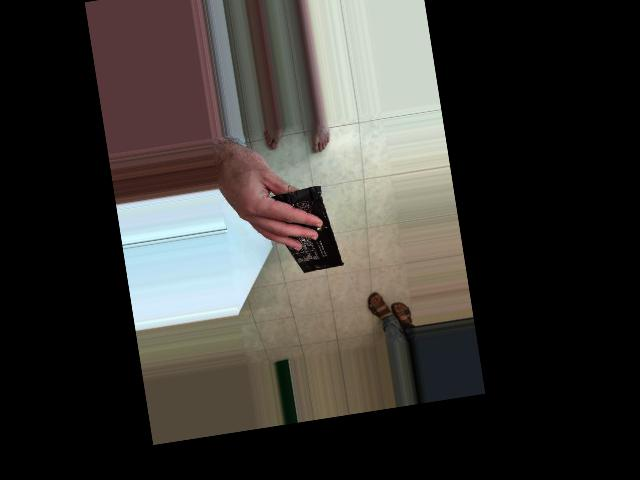chocolate: (256, 167, 344, 281)
